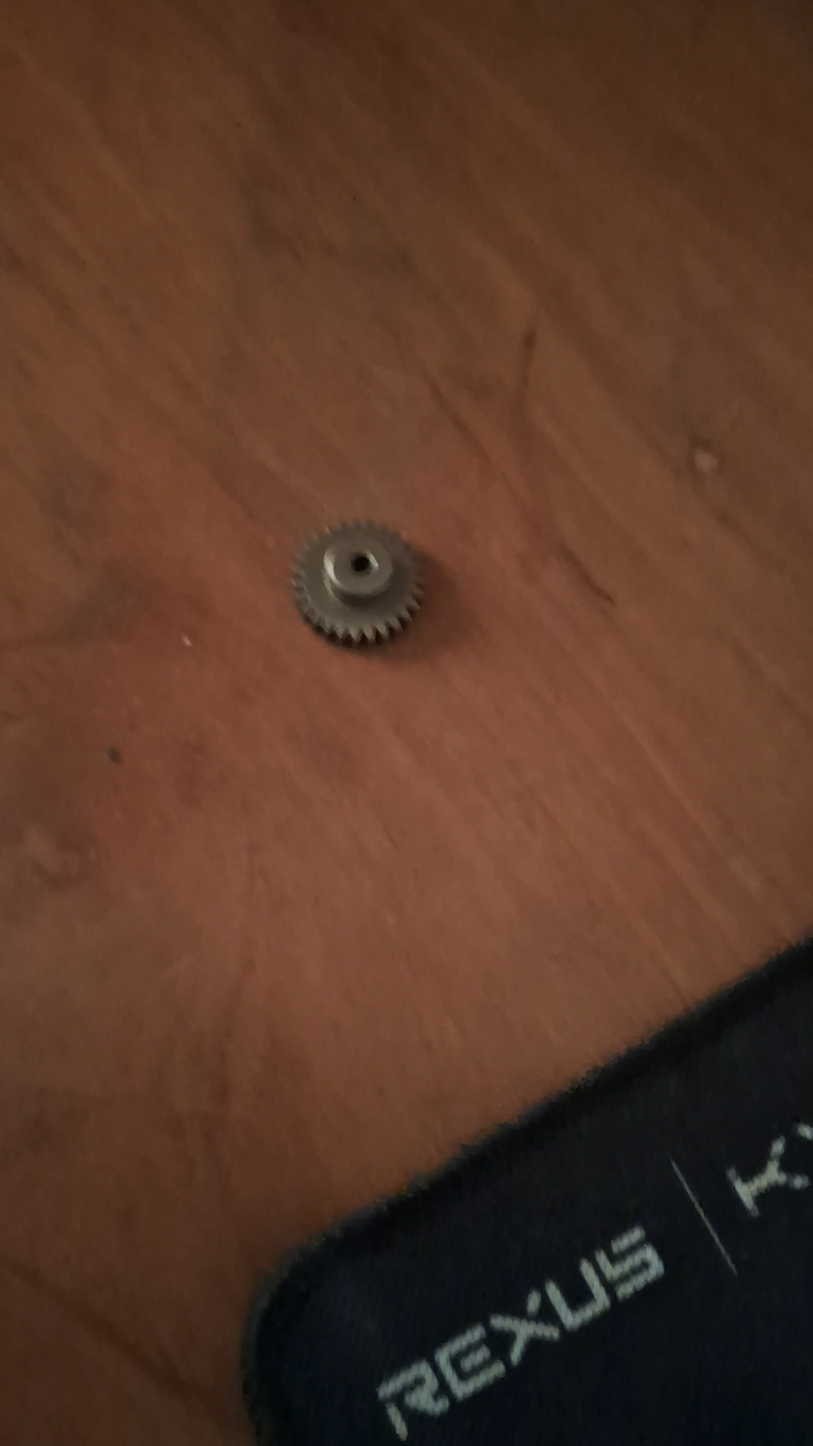spur gear: (293, 523, 422, 645)
